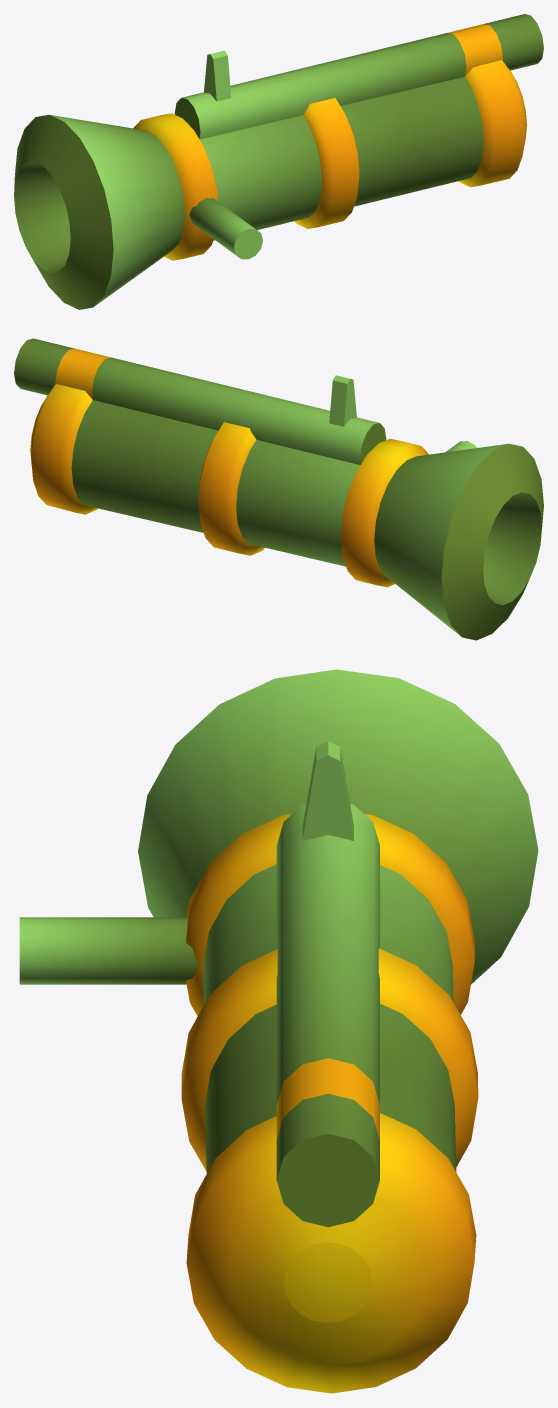
Rendered from Soldier_weapon.fbx.
3 renders of one model, top to bottom at view 1: azimuth 30°, elevation 25°; view 2: azimuth 150°, elevation 25°; view 3: azimuth 270°, elevation 25°, orthographic. The views are drawn at different scales.
Visible parts, largest first — view 1: Soldier_weapon; view 2: Soldier_weapon; view 3: Soldier_weapon.
Boxes of the visible parts, <box> form: Soldier_weapon: <box>14,14,543,309</box>; Soldier_weapon: <box>14,338,543,640</box>; Soldier_weapon: <box>19,669,538,1393</box>.
Size of the model in its own units: 25.7 by 10.92 by 11.89.
